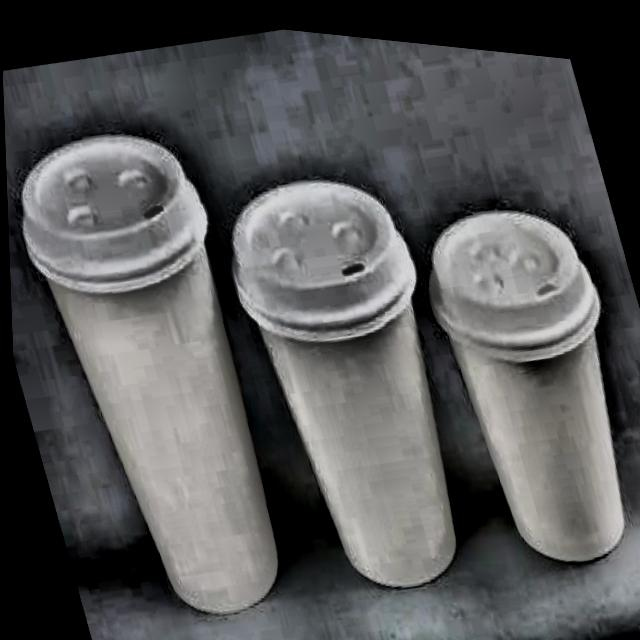Cup: (3, 95, 305, 640), (210, 139, 498, 607), (407, 167, 640, 582)
